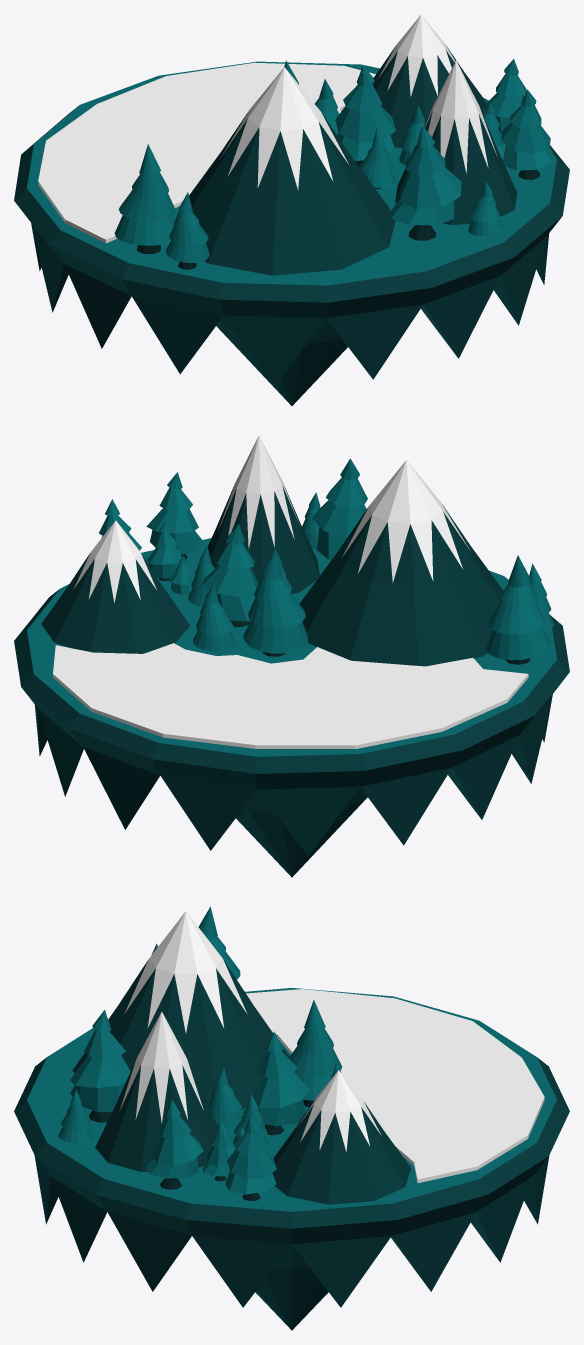
Rendered from CHubPlatform.fbx.
3 views of the same model, one above another, from view 1: azimuth 30°, elevation 25°; view 2: azimuth 150°, elevation 25°; view 3: azimuth 270°, elevation 25° (orthographic).
Parts seen in each view (by area): view 1: Circle, Cone, Plane, Cone.001, Cone.002, Cylinder.009, Cylinder.011, Cylinder, Cylinder.004, Cylinder.012, Cylinder.005, Cylinder.008 (+4 smaller); view 2: Circle, Plane, Cone, Cone.002, Cone.001, Cylinder.001, Cylinder.011, Cylinder, Cylinder.009, Cylinder.004, Cylinder.002, Cylinder.003 (+4 smaller); view 3: Circle, Plane, Cone, Cone.002, Cone.001, Cylinder.009, Cylinder, Cylinder.004, Cylinder.001, Cylinder.005, Cylinder.008, Cylinder.003 (+3 smaller).
Boxes of the visible parts, bbox=[...] form: Circle: bbox=[14, 61, 569, 405]; Cone: bbox=[189, 67, 395, 275]; Plane: bbox=[38, 62, 375, 243]; Cone.001: bbox=[395, 60, 517, 225]; Cone.002: bbox=[372, 15, 486, 147]; Cylinder.009: bbox=[390, 125, 461, 240]; Cylinder.011: bbox=[114, 144, 176, 253]; Cylinder: bbox=[335, 66, 395, 166]; Cylinder.004: bbox=[501, 89, 553, 179]; Cylinder.012: bbox=[166, 192, 209, 269]; Cylinder.005: bbox=[483, 59, 526, 134]; Cylinder.008: bbox=[359, 128, 395, 188]; Circle: bbox=[14, 538, 569, 877]; Plane: bbox=[53, 643, 528, 748]; Cone: bbox=[299, 460, 503, 666]; Cone.002: bbox=[41, 520, 189, 653]; Cone.001: bbox=[207, 435, 319, 594]; Cylinder.001: bbox=[243, 548, 308, 656]; Cylinder.011: bbox=[486, 555, 551, 664]; Cylinder: bbox=[201, 524, 258, 626]; Cylinder.009: bbox=[312, 458, 367, 560]; Cylinder.004: bbox=[146, 472, 203, 559]; Cylinder.002: bbox=[193, 583, 235, 651]; Cylinder.003: bbox=[146, 521, 181, 581]; Circle: bbox=[14, 988, 569, 1330]; Plane: bbox=[246, 989, 544, 1182]; Cone: bbox=[72, 911, 289, 1109]; Cone.002: bbox=[272, 1070, 411, 1204]; Cone.001: bbox=[95, 1011, 218, 1171]; Cylinder.009: bbox=[70, 1010, 130, 1122]; Cylinder: bbox=[242, 1031, 309, 1135]; Cylinder.004: bbox=[145, 1099, 203, 1189]; Cylinder.001: bbox=[288, 1000, 342, 1106]; Cylinder.005: bbox=[225, 1116, 276, 1200]; Cylinder.008: bbox=[208, 1067, 241, 1127]; Cylinder.003: bbox=[203, 1120, 235, 1181].
Size of the model in its own units: 1523 by 1179 by 1523.
